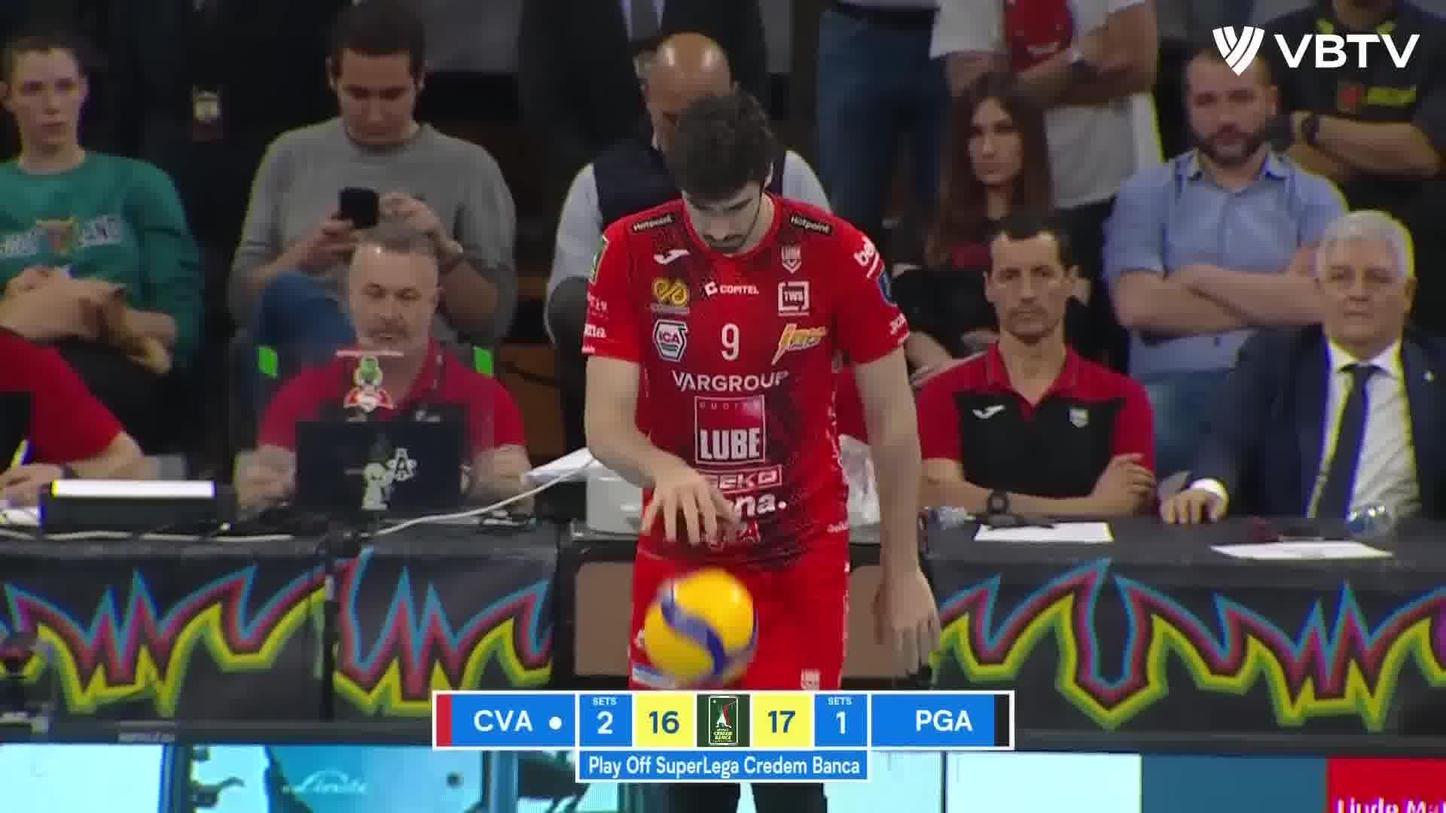balls: (642, 568, 761, 688)
